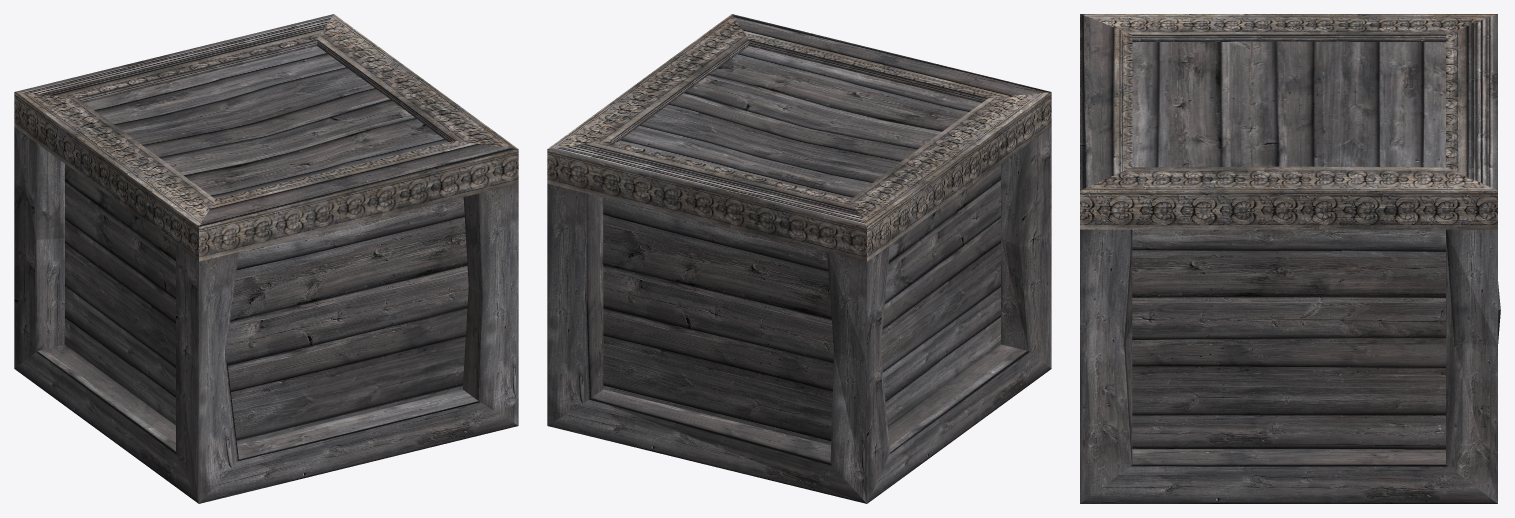
File: tavern_box.dae
3 renders of one model, left to right at view 1: azimuth 30°, elevation 25°; view 2: azimuth 150°, elevation 25°; view 3: azimuth 270°, elevation 25°, orthographic. The views are drawn at different scales.
Visible parts, largest first — view 1: Default_Layer; view 2: Default_Layer; view 3: Default_Layer.
Boxes of the visible parts, x1,y1,x2,y2 form: Default_Layer: (14,14,518,503); Default_Layer: (547,14,1051,503); Default_Layer: (1080,14,1500,503).
Size of the model in its own units: 2.91 by 2.42 by 2.93.
